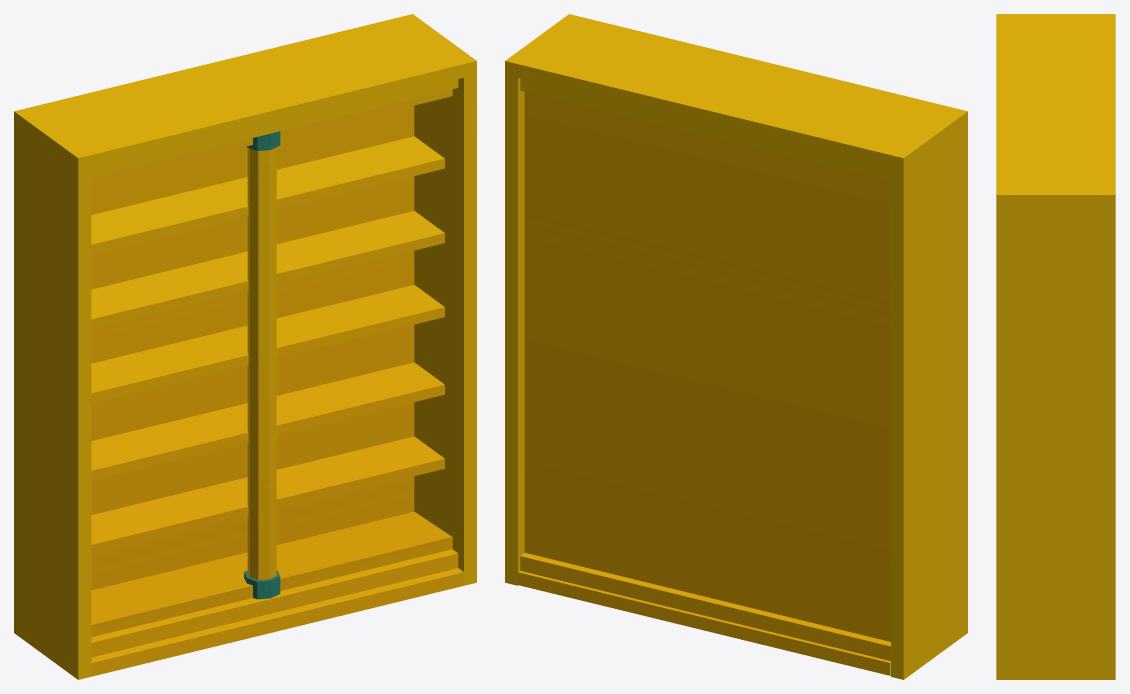
The model's file is 1 Bookshelf 02 Center_01.001.fbx.
3 views of the same model, side by side, from view 1: azimuth 30°, elevation 25°; view 2: azimuth 150°, elevation 25°; view 3: azimuth 270°, elevation 25° (orthographic). The views are drawn at different scales.
Visible parts, largest first — view 1: Bookshelf 02 Center_01.001; view 2: Bookshelf 02 Center_01.001; view 3: Bookshelf 02 Center_01.001.
Part boxes in pixels (<box>): Bookshelf 02 Center_01.001: <box>14,14,476,679</box>; Bookshelf 02 Center_01.001: <box>505,14,967,679</box>; Bookshelf 02 Center_01.001: <box>996,14,1115,679</box>.
Bounding box in the file's own units: 214 × 267 × 59.62.
